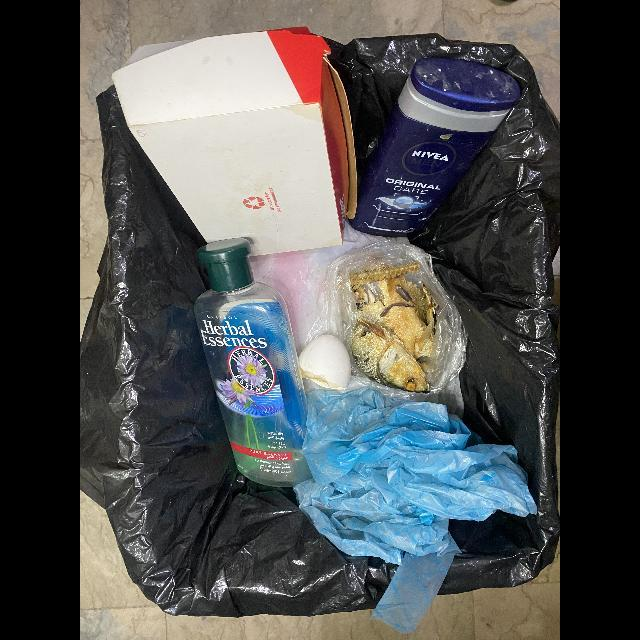biowaste: (349, 263, 436, 393), (298, 334, 351, 390)
paper: (111, 27, 358, 257)
plastic: (293, 388, 537, 635), (349, 57, 522, 238), (194, 238, 313, 489)
